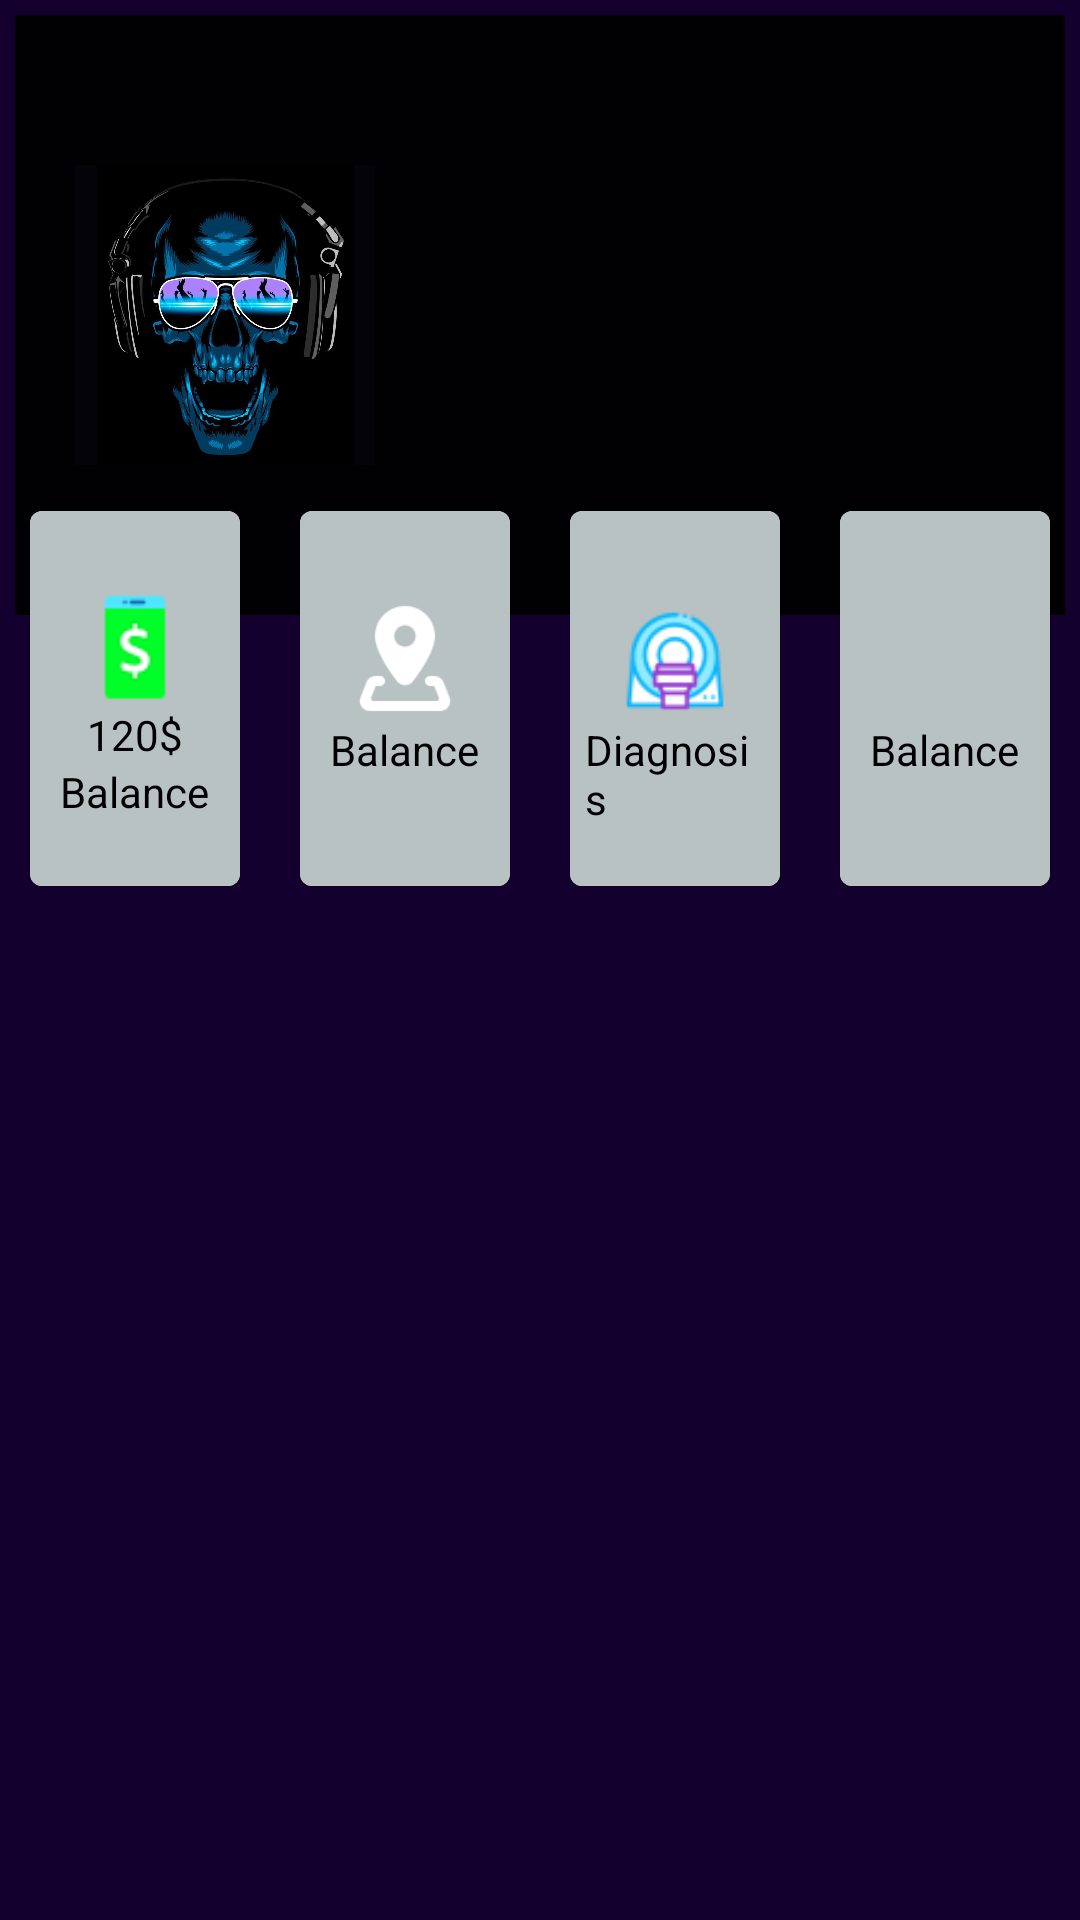

Icon click points for this 1080×1920 phone screenshot, format (x,y):
address: (405,658)
apparatus: (675,661)
payment: (135,647)
